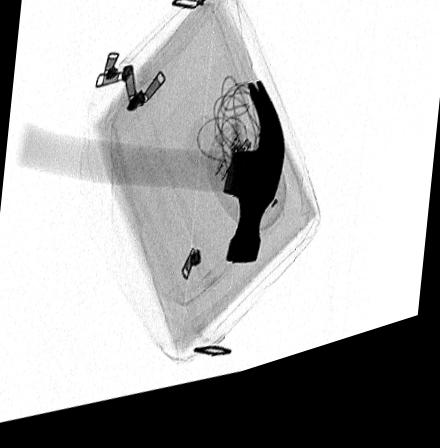Hammer: (11, 95, 285, 279)
